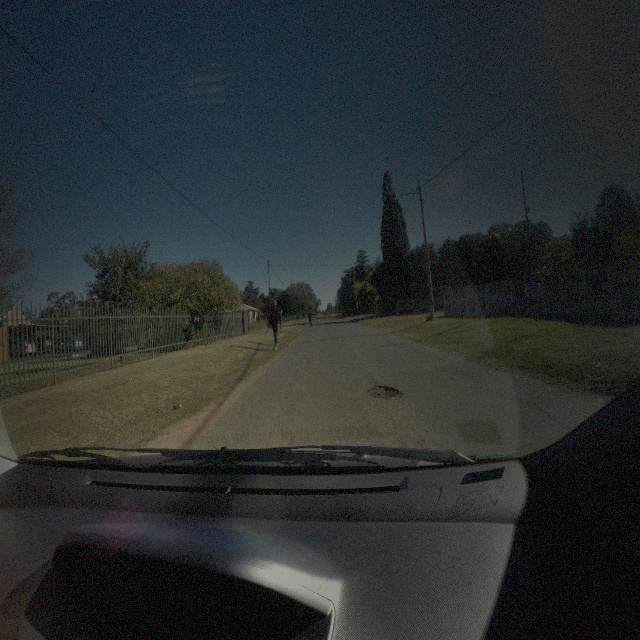pothole: (364, 381, 403, 401)
